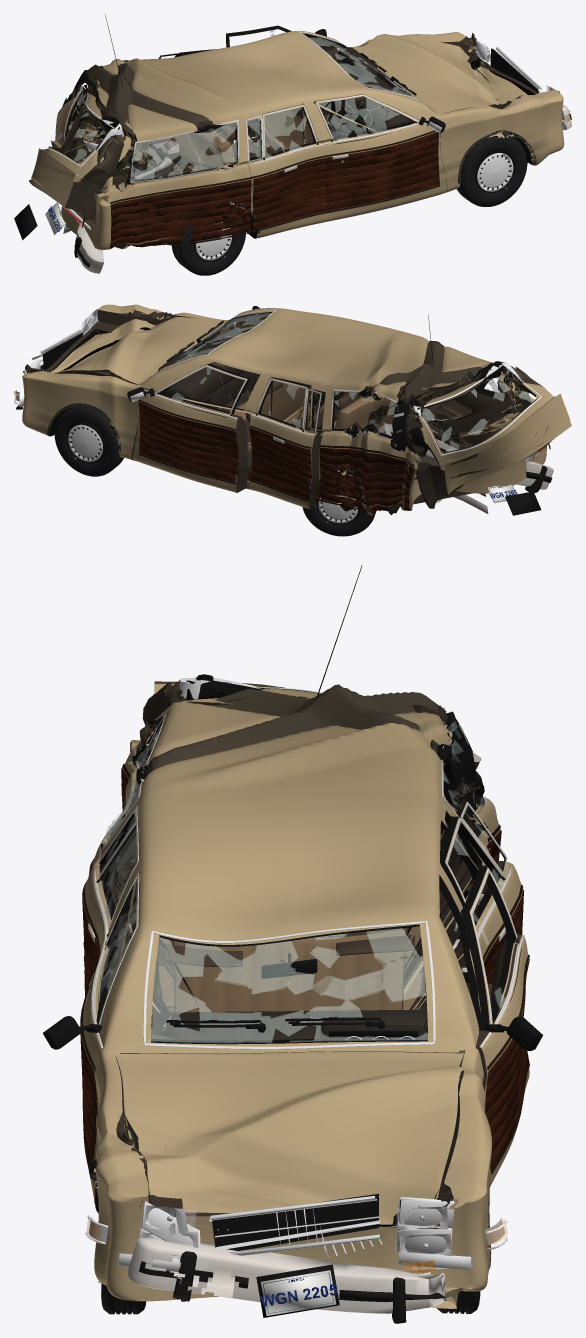
File: wagon82_rear_corner_d2_lod1.glb
The picture shows the model from 3 angles, top to bottom: view 1: azimuth 30°, elevation 25°; view 2: azimuth 150°, elevation 25°; view 3: azimuth 270°, elevation 25°; orthographic projection. The views are drawn at different scales.
Visible parts, largest first — view 1: Body, Trim, Trim_FR, Hood, Interior, Tailgate, Trim_RR, Glass, Wheel_FR_mesh, Door_FR, Wheel_RR_mesh, Ends (+6 smaller); view 2: Body, Tailgate, Interior, Trim, Trim_FL, Hood, Trim_RL, Door_FL, Wheel_FL_mesh, Door_RL, Glass, Ends (+5 smaller); view 3: Body, Hood, Interior, Glass, Ends, Bumper_F, Trim_FL, Door_FL, Trim_FR, Trim, Door_RL, Door_FR (+6 smaller).
Part boxes in pixels (<box>): Body: <box>61,30,564,249</box>; Trim: <box>63,14,536,248</box>; Trim_FR: <box>316,94,445,212</box>; Hood: <box>353,34,527,113</box>; Interior: <box>122,47,411,178</box>; Tailgate: <box>29,81,130,219</box>; Trim_RR: <box>245,105,329,230</box>; Glass: <box>72,31,427,184</box>; Wheel_FR_mesh: <box>456,136,527,206</box>; Door_FR: <box>315,94,447,220</box>; Wheel_RR_mesh: <box>171,207,245,275</box>; Ends: <box>14,40,570,240</box>; Body: <box>22,304,546,515</box>; Tailgate: <box>405,361,571,508</box>; Interior: <box>158,327,500,465</box>; Trim: <box>47,315,488,514</box>; Trim_FL: <box>127,365,246,484</box>; Hood: <box>51,317,226,384</box>; Trim_RL: <box>248,378,321,501</box>; Door_FL: <box>133,363,250,492</box>; Wheel_FL_mesh: <box>54,405,123,476</box>; Door_RL: <box>249,377,321,508</box>; Glass: <box>151,309,499,450</box>; Ends: <box>14,309,550,515</box>; Body: <box>85,684,500,1308</box>; Hood: <box>115,1051,463,1224</box>; Interior: <box>151,926,427,1040</box>; Glass: <box>101,711,486,1049</box>; Ends: <box>85,1193,507,1317</box>; Bumper_F: <box>127,1236,446,1323</box>; Trim_FL: <box>470,868,542,1174</box>; Door_FL: <box>460,866,529,1187</box>; Trim_FR: <box>43,873,139,1178</box>; Trim: <box>82,565,501,1269</box>; Door_RL: <box>440,816,522,995</box>; Door_FR: <box>81,872,139,1195</box>.
Bounding box in the file's own units: 4.98 × 2.09 × 2.15.
Materials: 35 (6 with a texture image).
